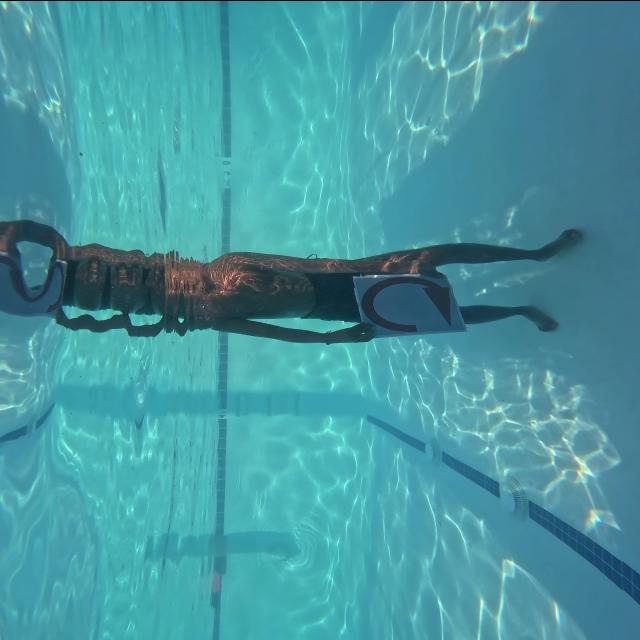red_side: (359, 274, 456, 334)
